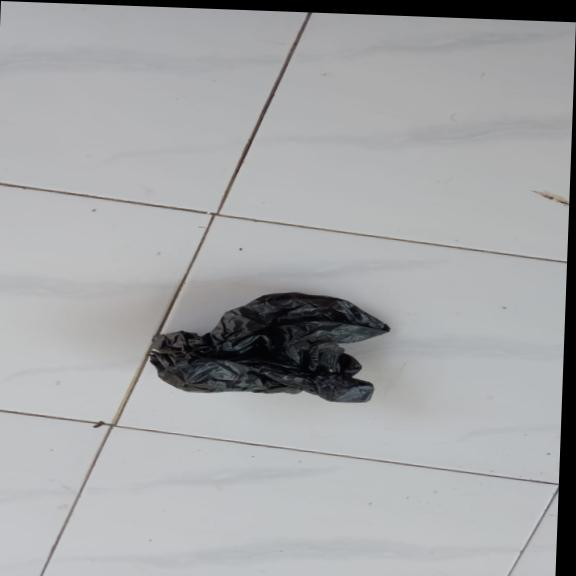Plastik: (142, 287, 393, 404)
